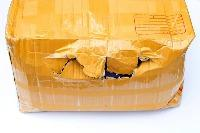damaged package: (46, 52, 160, 84)
undamaged: (3, 0, 197, 114)
